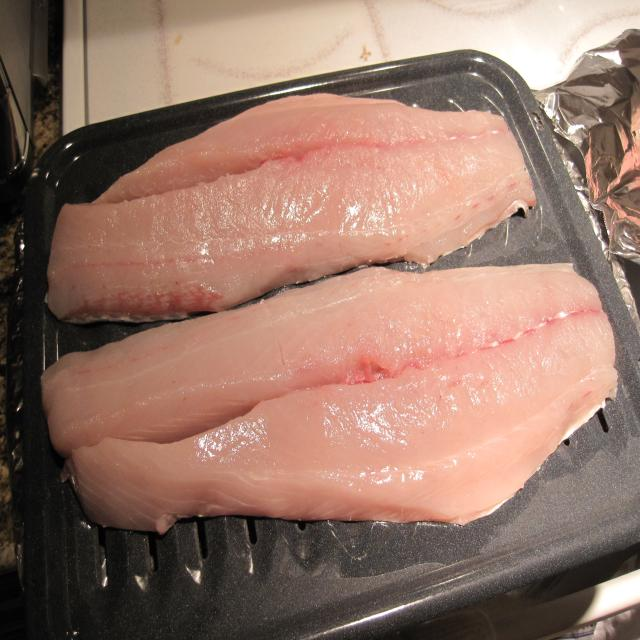Mackerel: (42, 263, 618, 533), (48, 93, 535, 322)
